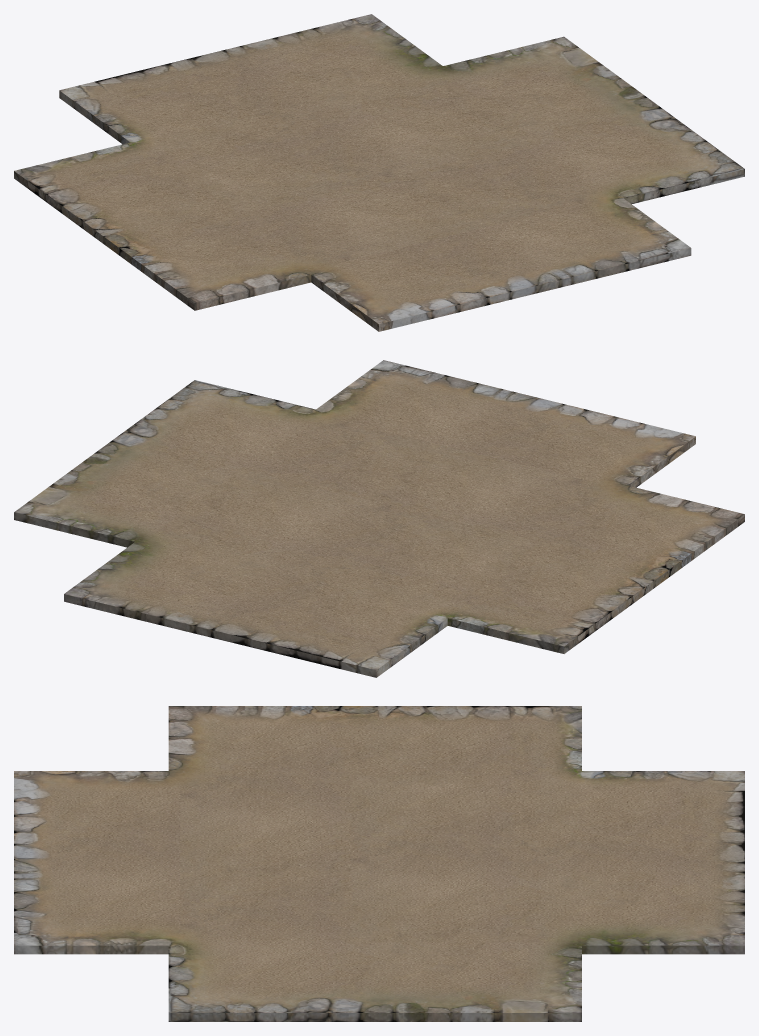
Rendered from SM_Song_Jong_Kidan.fbx.
3 views of the same model, one above another, from view 1: azimuth 30°, elevation 25°; view 2: azimuth 150°, elevation 25°; view 3: azimuth 270°, elevation 25° (orthographic). The views are drawn at different scales.
Parts seen in each view (by area): view 1: SM_Song_Jong_Kidan; view 2: SM_Song_Jong_Kidan; view 3: SM_Song_Jong_Kidan.
Part boxes in pixels (bbox=[...]): SM_Song_Jong_Kidan: bbox=[14, 14, 744, 331]; SM_Song_Jong_Kidan: bbox=[14, 360, 744, 677]; SM_Song_Jong_Kidan: bbox=[14, 706, 744, 1021].
Bounding box in the file's own units: 1129 × 15 × 1136.
